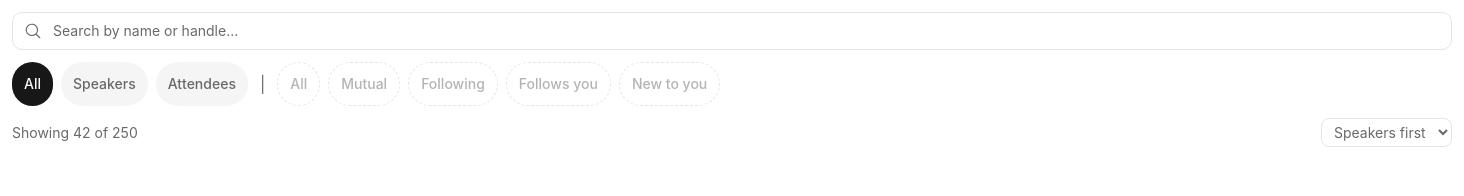
Test: AttendeeFilters › clicking ghost chip shows login nudge message
Click the button "Mutual": click(364, 84) [328,62,400,106]
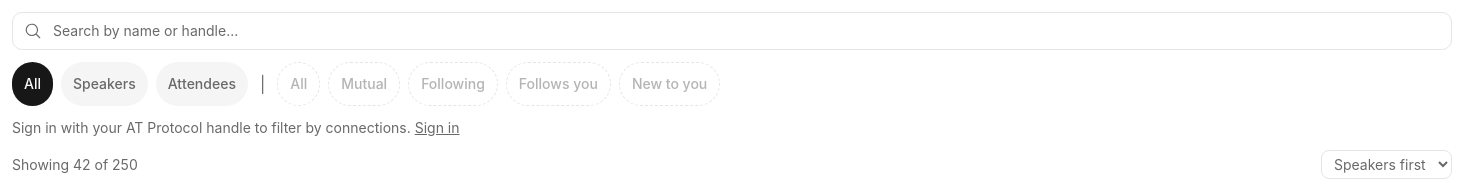
Now the text "Sign in with your AT Protocol handle to filter by connections. Sign in" is shown, box [12,119,460,136]
